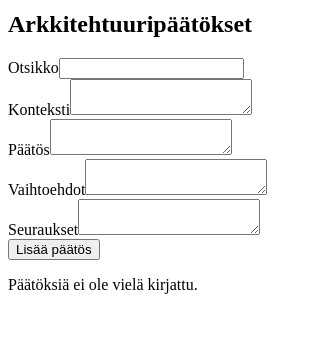
Test case: AdrView › vaatii otsikon, kontekstin ja päätöksen
The width and height of the screenshot is (320, 345).
Expected: the text "Päätöksiä ei ole vielä kirjattu." is shown, left=8, top=276, right=198, bottom=293
Type "Vain otsikko" into the field labelled "Otsikko".
click(151, 68); type("Vain otsikko")  # box left=59, top=58, right=244, bottom=79
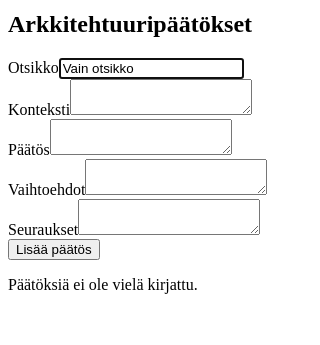
Click the button "Lisää päätös".
click(54, 249)  # box left=8, top=239, right=100, bottom=260
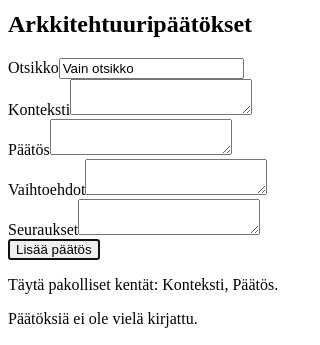
Expected: the message reads "Täytä pakolliset kentät: Konteksti, Päätös.", left=8, top=276, right=278, bottom=293
